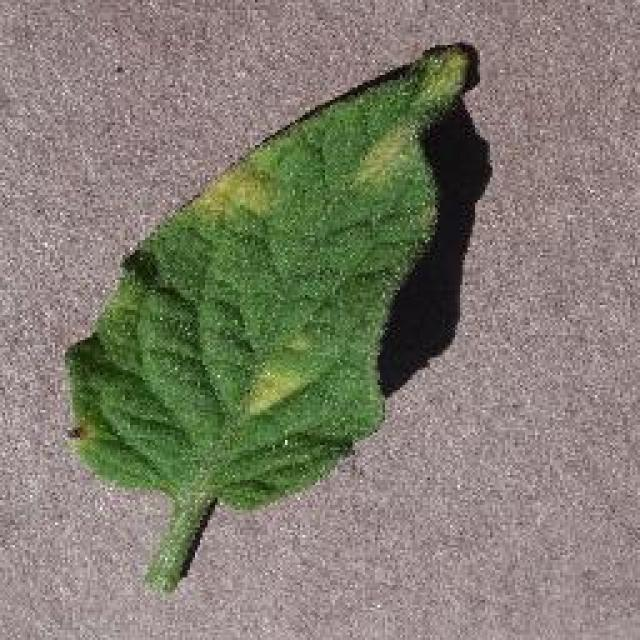Tomato mold leaf: (75, 42, 477, 502)
